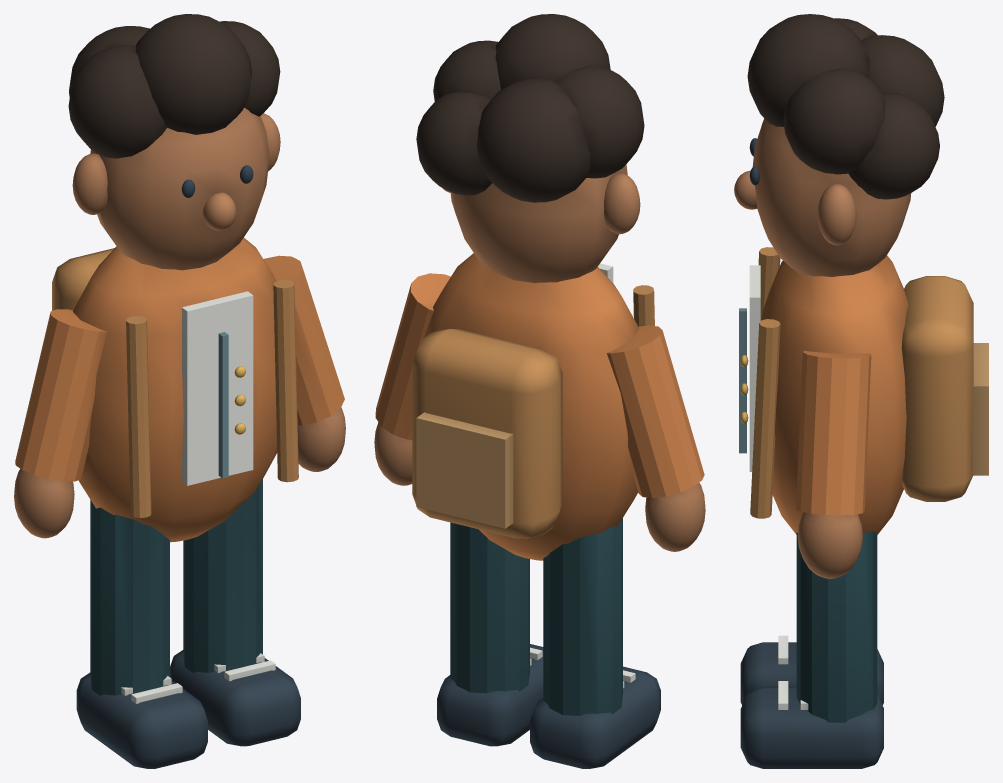
File: salvador.glb
The picture shows the model from 3 angles, left to right: view 1: azimuth 30°, elevation 25°; view 2: azimuth 150°, elevation 25°; view 3: azimuth 270°, elevation 25°; orthographic projection.
Parts seen in each view (by area): view 1: jacket, neck, trousers, hair curl, shoe, t shirt, backpack, jacket zipper; view 2: jacket, hair curl, trousers, backpack, neck, shoe, backpack pocket; view 3: jacket, hair curl, backpack, neck, trousers, shoe, t shirt, backpack pocket, jacket zipper.
Boxes of the visible parts, <box> form: jacket: <box>15,237,344,542</box>; neck: <box>14,107,345,538</box>; trousers: <box>90,479,262,695</box>; hair curl: <box>68,14,280,158</box>; shoe: <box>76,165,300,768</box>; t shirt: <box>121,291,275,703</box>; backpack: <box>52,248,298,517</box>; jacket zipper: <box>218,332,228,478</box>; jacket: <box>375,253,704,560</box>; hair curl: <box>416,14,644,202</box>; trousers: <box>450,518,622,715</box>; backpack: <box>412,285,654,538</box>; neck: <box>374,164,705,551</box>; shoe: <box>437,644,660,768</box>; backpack pocket: <box>416,412,513,528</box>; jacket: <box>761,255,908,534</box>; hair curl: <box>747,14,944,199</box>; backpack: <box>750,247,973,518</box>; neck: <box>734,118,911,578</box>; trousers: <box>796,531,877,722</box>; shoe: <box>740,138,883,768</box>; t shirt: <box>749,265,808,709</box>; backpack pocket: <box>972,343,988,475</box>; jacket zipper: <box>739,308,746,453</box>.
Size of the model in its own units: 0.834 by 1.77 by 0.569.
